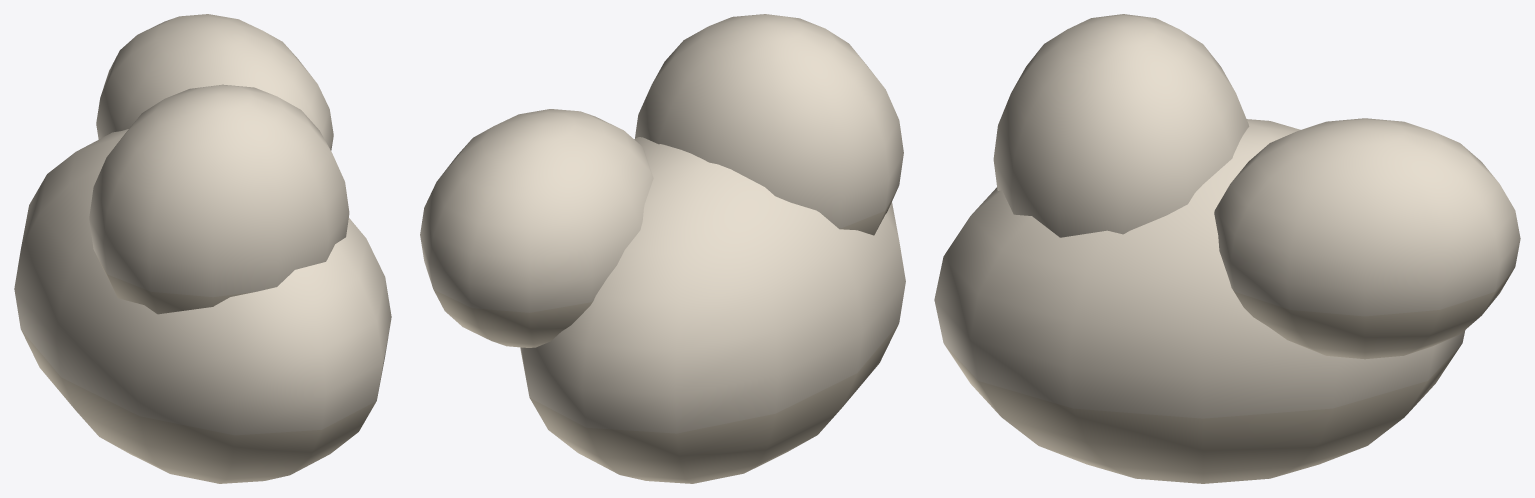
File: smoke02.fbx
3 renders of one model, left to right at view 1: azimuth 30°, elevation 25°; view 2: azimuth 150°, elevation 25°; view 3: azimuth 270°, elevation 25°, orthographic. The views are drawn at different scales.
Visible parts, largest first — view 1: smoke02; view 2: smoke02; view 3: smoke02.
Part boxes in pixels (x1,y1,x2,y2): smoke02: (14, 14, 391, 483); smoke02: (420, 14, 905, 483); smoke02: (934, 14, 1520, 483).
Bounding box in the file's own units: 0.4606 × 0.5267 × 0.6516.
